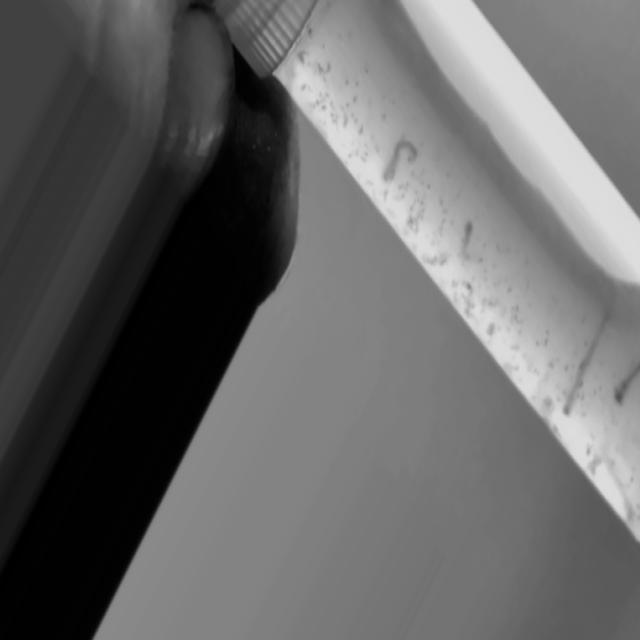larvas: (562, 319, 607, 414), (382, 142, 420, 186), (614, 361, 640, 401), (459, 221, 474, 261)
